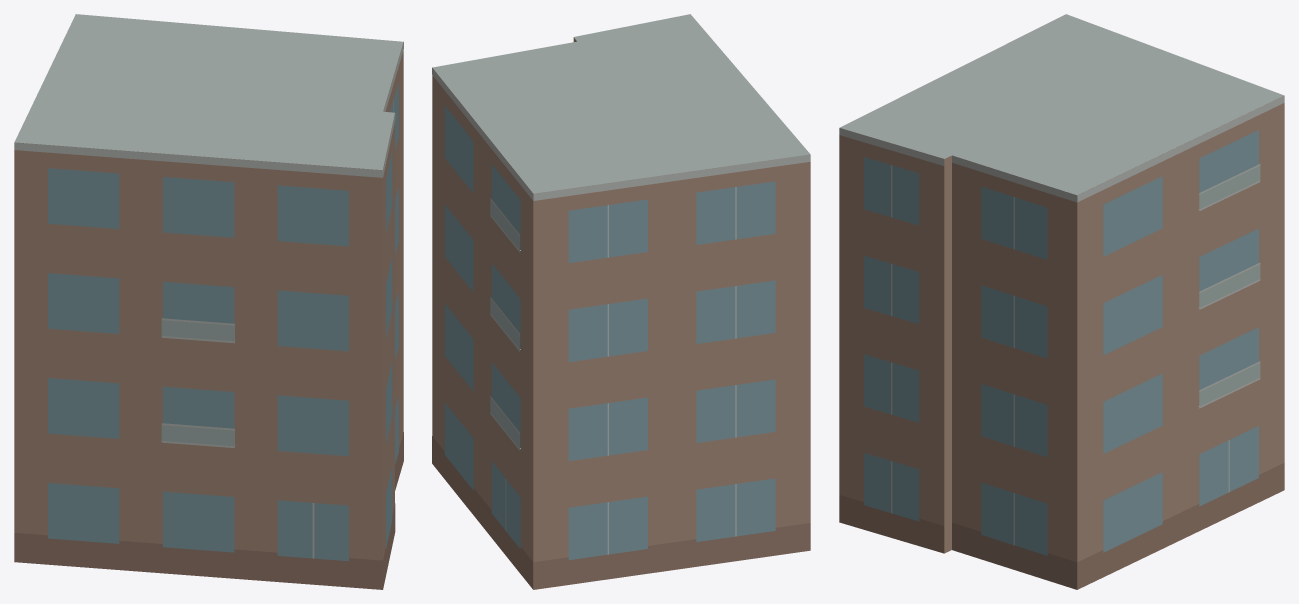
The model's file is survey-upis-32777436.glb.
The picture shows the model from 3 angles, left to right: view 1: azimuth 30°, elevation 25°; view 2: azimuth 150°, elevation 25°; view 3: azimuth 270°, elevation 25°; orthographic projection. The views are drawn at different scales.
Visible parts, largest first — view 1: survey-upis-32777436.tmp; view 2: survey-upis-32777436.tmp; view 3: survey-upis-32777436.tmp.
Part boxes in pixels (x1,y1,x2,y2): survey-upis-32777436.tmp: [14, 14, 403, 589]; survey-upis-32777436.tmp: [432, 14, 810, 589]; survey-upis-32777436.tmp: [839, 14, 1284, 589].
Bounding box in the file's own units: 13.11 × 13.3 × 13.61.
